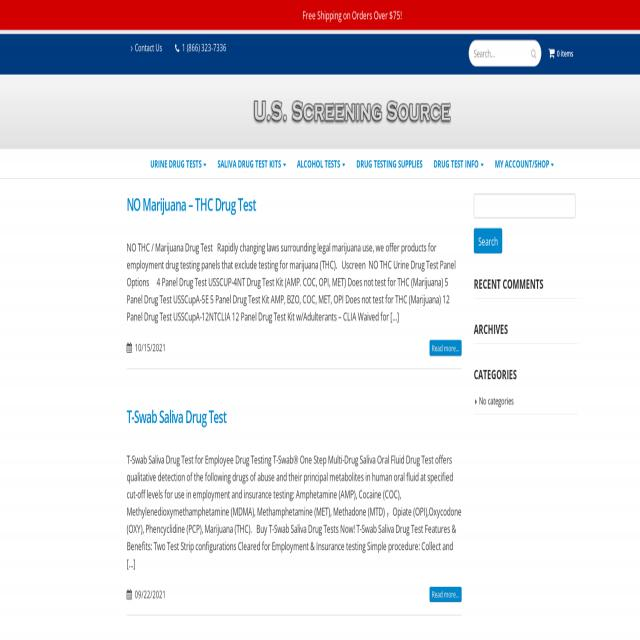button: (251, 91, 454, 133), (212, 149, 292, 179), (350, 149, 428, 179), (489, 149, 559, 179), (145, 149, 211, 179), (428, 149, 488, 179), (292, 149, 350, 179), (126, 35, 166, 60), (474, 228, 502, 254), (430, 340, 462, 356), (430, 586, 462, 602), (530, 48, 538, 62)
field: (474, 193, 575, 218), (469, 41, 541, 68)
